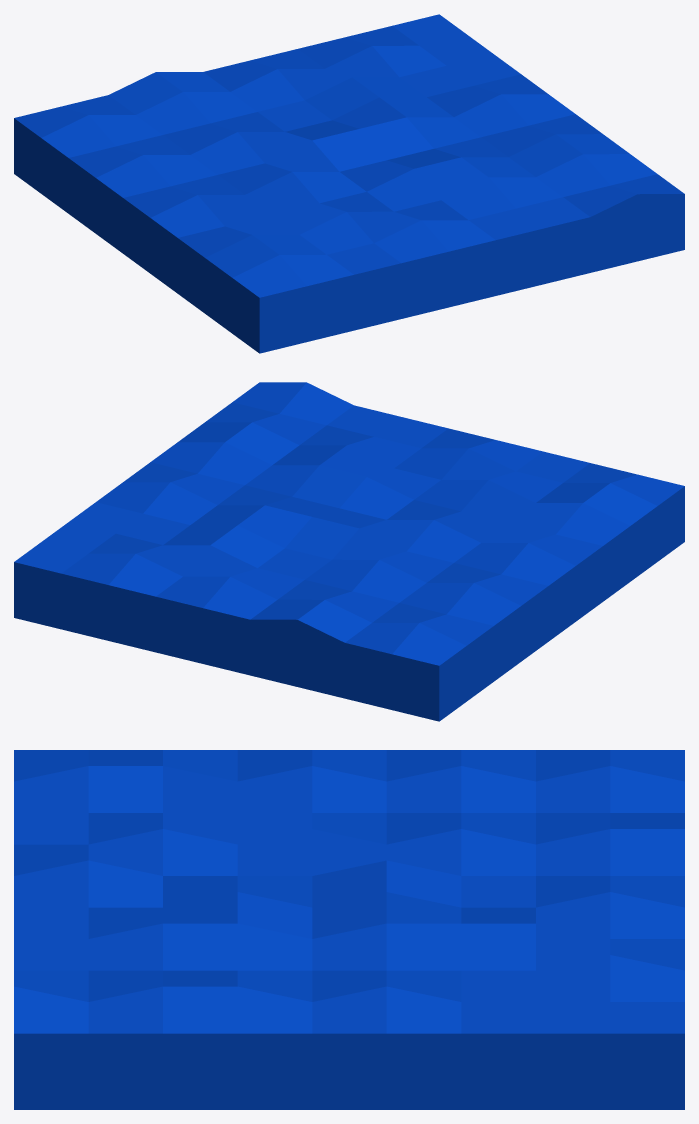
Rendered from flowing_water.fbx.
The picture shows the model from 3 angles, top to bottom: view 1: azimuth 30°, elevation 25°; view 2: azimuth 150°, elevation 25°; view 3: azimuth 270°, elevation 25°; orthographic projection. The views are drawn at different scales.
Visible parts, largest first — view 1: Grid; view 2: Grid; view 3: Grid.
Boxes of the visible parts, x1=… form: Grid: x1=14, y1=14, x2=684, y2=353; Grid: x1=14, y1=382, x2=684, y2=721; Grid: x1=14, y1=750, x2=684, y2=1109.
Size of the model in its own units: 200 by 30.22 by 200.
